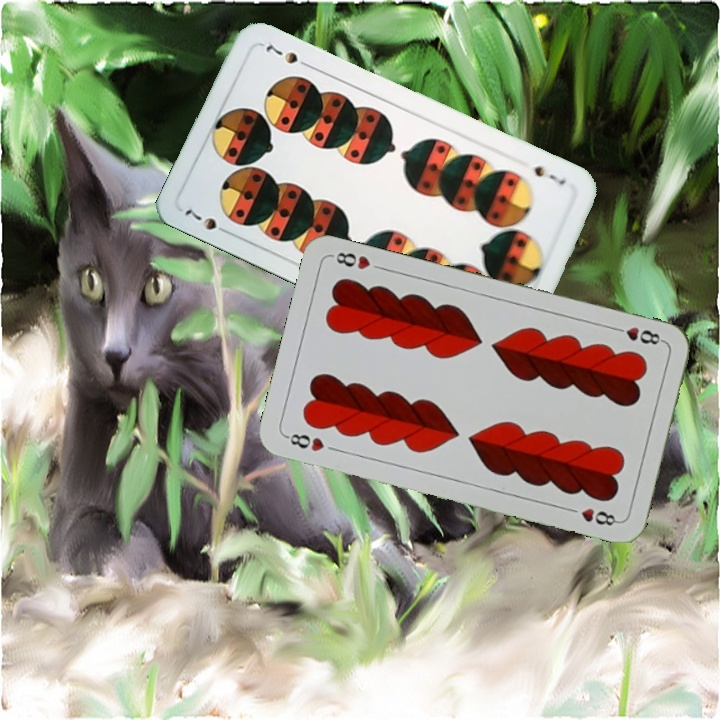H8: (608, 323, 667, 348), (281, 429, 327, 454)
S7: (180, 205, 234, 238), (529, 161, 569, 188)
